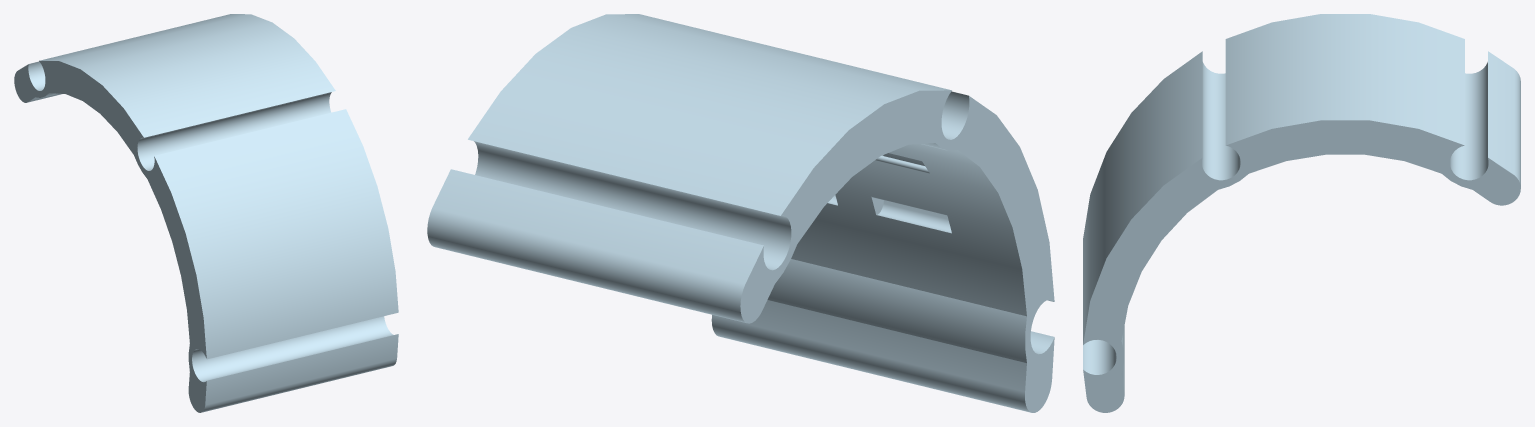
3 views of the same model, side by side, from view 1: azimuth 30°, elevation 25°; view 2: azimuth 150°, elevation 25°; view 3: azimuth 270°, elevation 25° (orthographic). The views are drawn at different scales.
Parts seen in each view (by area): view 1: mesh79163, mesh79161, mesh79170, mesh79165, mesh79164, mesh79162, mesh79166, mesh79160; view 2: mesh79161, mesh79173, mesh79170, mesh79159, mesh79158, mesh79169, mesh79160, mesh79167, mesh79166, mesh79162, mesh79174; view 3: mesh79161, mesh79171, mesh79163, mesh79162, mesh79160, mesh79159, mesh79164, mesh79158.
Part boxes in pixels (<box>): mesh79163: <box>154,109,398,359</box>; mesh79161: <box>40,14,335,137</box>; mesh79170: <box>14,60,206,412</box>; mesh79165: <box>205,334,398,404</box>; mesh79164: <box>192,316,393,382</box>; mesh79162: <box>137,92,331,170</box>; mesh79166: <box>202,358,396,412</box>; mesh79160: <box>28,61,45,90</box>; mesh79161: <box>468,14,950,215</box>; mesh79173: <box>791,144,1026,316</box>; mesh79170: <box>740,90,1054,412</box>; mesh79159: <box>432,169,763,283</box>; mesh79158: <box>427,208,745,322</box>; mesh79169: <box>767,259,1026,362</box>; mesh79160: <box>474,141,791,270</box>; mesh79167: <box>712,300,1026,391</box>; mesh79166: <box>711,315,1030,412</box>; mesh79162: <box>941,91,969,139</box>; mesh79174: <box>877,204,951,233</box>; mesh79161: <box>1225,14,1464,145</box>; mesh79171: <box>1083,120,1520,412</box>; mesh79163: <box>1083,51,1202,344</box>; mesh79162: <box>1202,62,1240,180</box>; mesh79160: <box>1450,62,1488,180</box>; mesh79159: <box>1488,51,1513,174</box>; mesh79164: <box>1083,340,1116,374</box>; mesh79158: <box>1514,69,1520,186</box>.
Bounding box in the file's own units: 0.0419 × 0.0537 × 0.0728.
